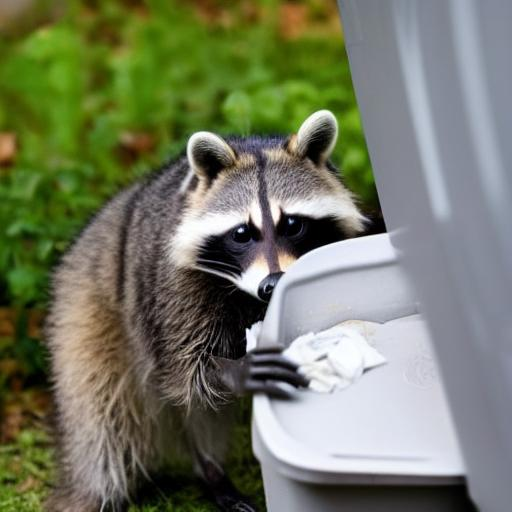raccoon: (36, 105, 373, 512)
